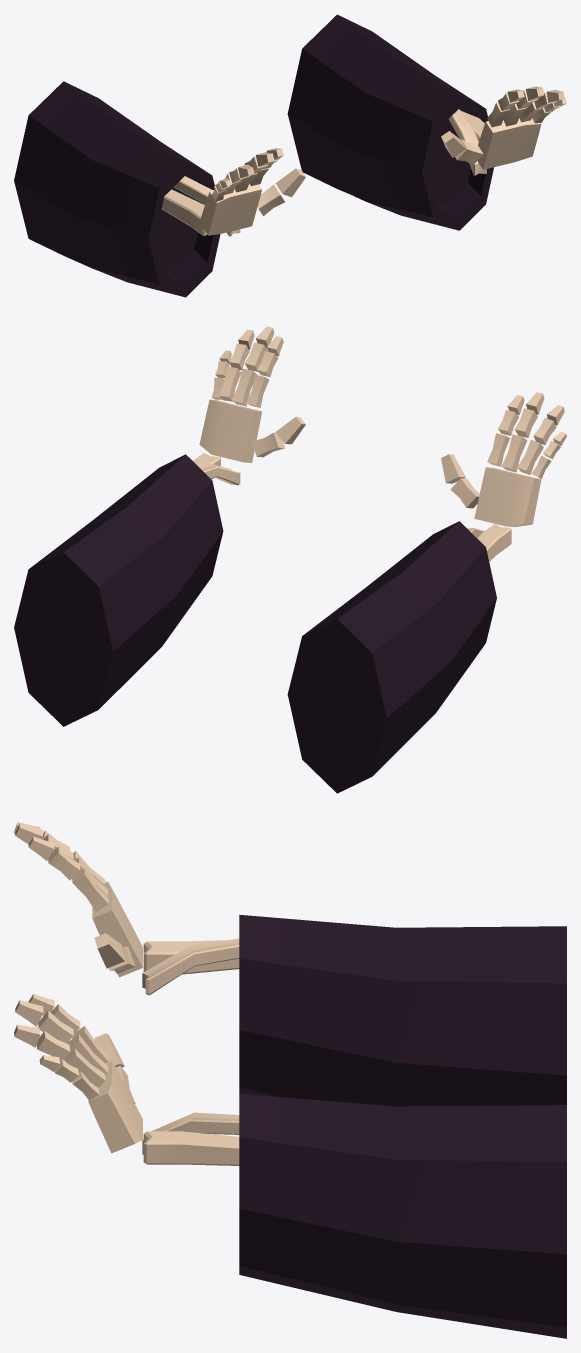
The model's file is TrainJam_Hands.fbx.
The picture shows the model from 3 angles, top to bottom: view 1: azimuth 30°, elevation 25°; view 2: azimuth 150°, elevation 25°; view 3: azimuth 270°, elevation 25°; orthographic projection. The views are drawn at different scales.
Visible parts, largest first — view 1: pCube13; view 2: pCube13; view 3: pCube13.
Boxes of the visible parts, x1=… form: pCube13: x1=14, y1=14, x2=566, y2=297; pCube13: x1=14, y1=326, x2=566, y2=793; pCube13: x1=14, y1=822, x2=566, y2=1338.
Size of the model in its own units: 0.8747 by 0.5621 by 0.839.
